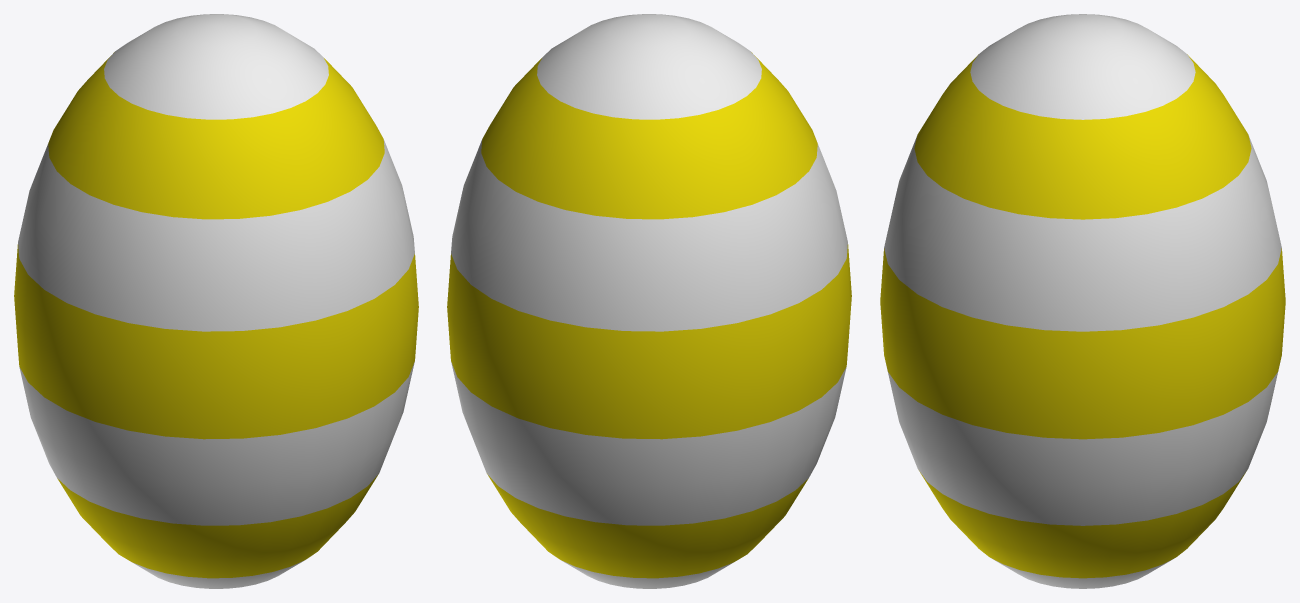
The model's file is Digitama.fbx.
3 views of the same model, side by side, from view 1: azimuth 30°, elevation 25°; view 2: azimuth 150°, elevation 25°; view 3: azimuth 270°, elevation 25° (orthographic).
Visible parts, largest first — view 1: Sphere; view 2: Sphere; view 3: Sphere.
Part boxes in pixels (left/top/right/bottom): Sphere: left=14, top=14, right=418, bottom=588; Sphere: left=447, top=14, right=851, bottom=588; Sphere: left=880, top=14, right=1285, bottom=588.
Size of the model in its own units: 2 by 3 by 2.
